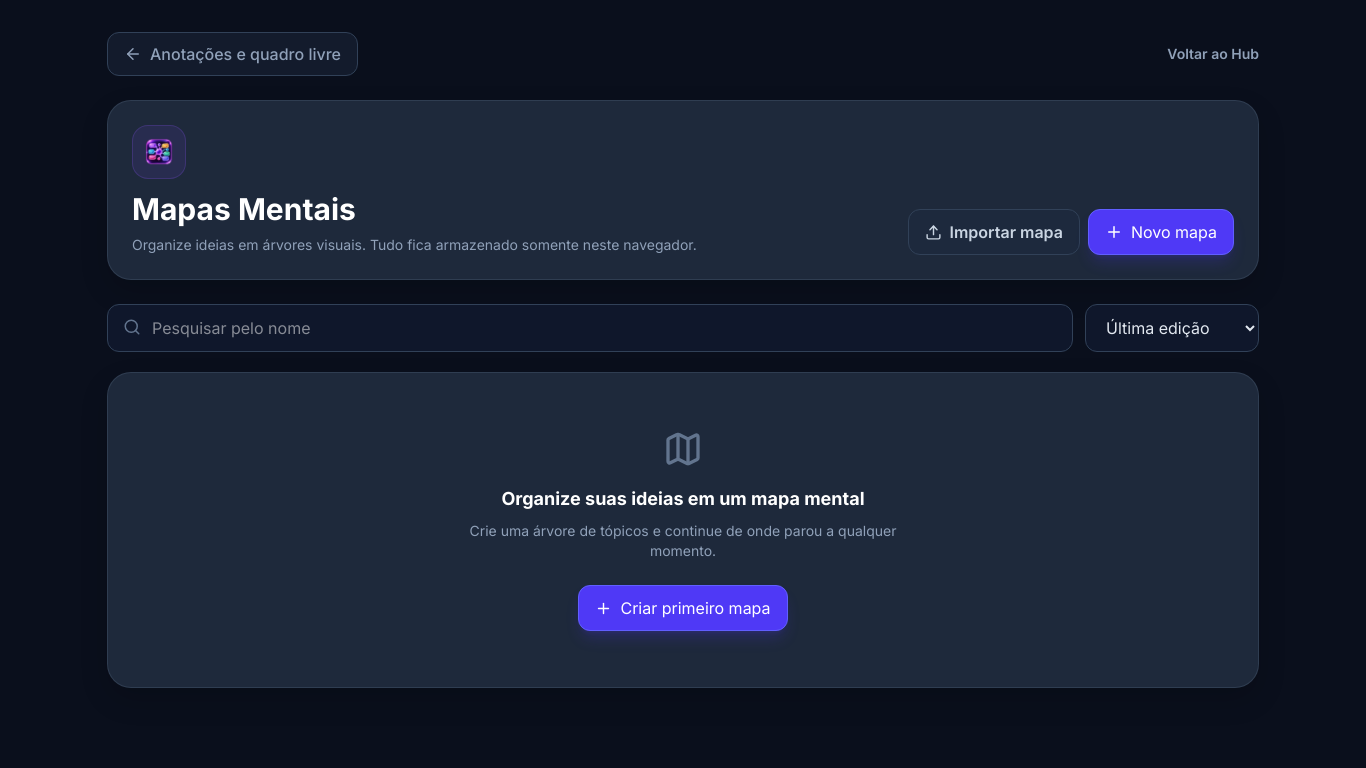
Test: Escape cancela a criação sem gravar um mapa
Step 1. Click the button "Novo mapa" → (1161, 232), box [1088, 209, 1234, 255]
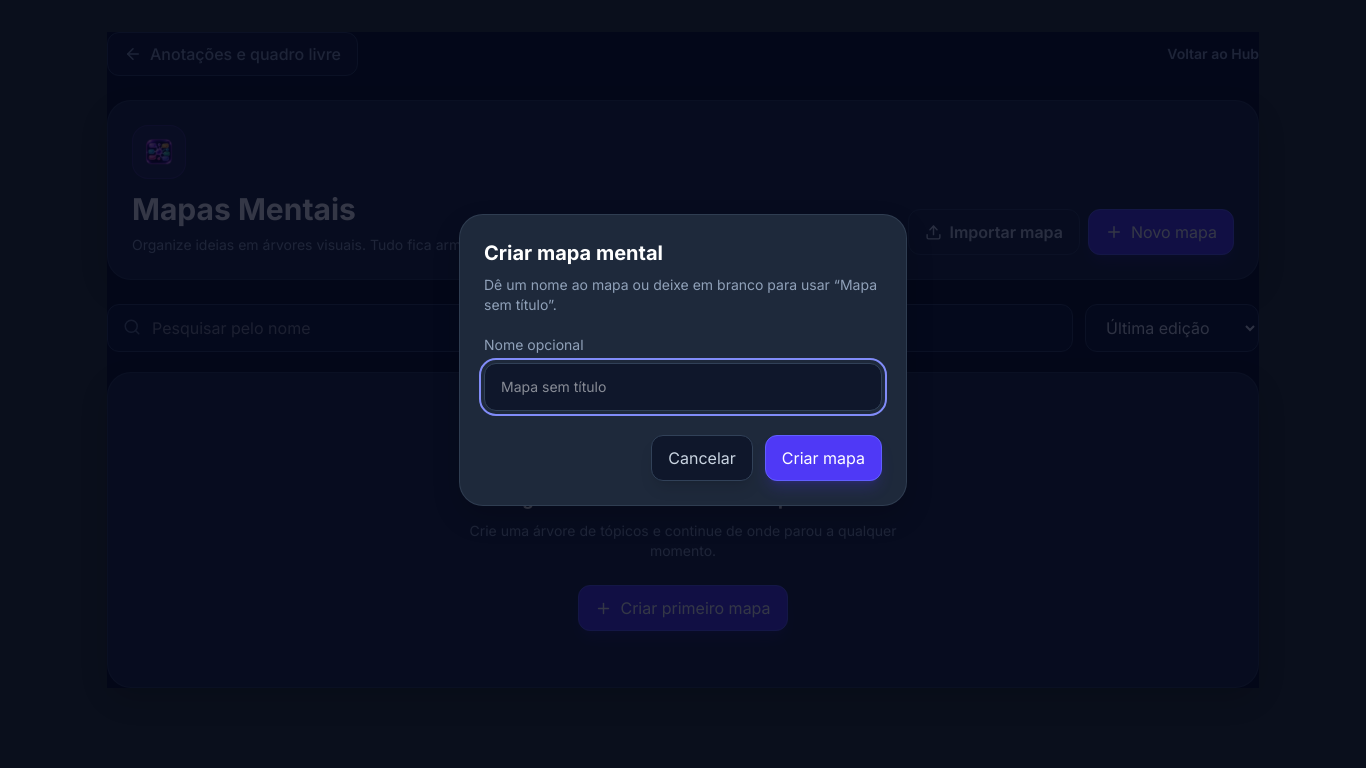
Step 2. Press Escape in the field named "Nome do novo mapa", box [484, 363, 882, 411]
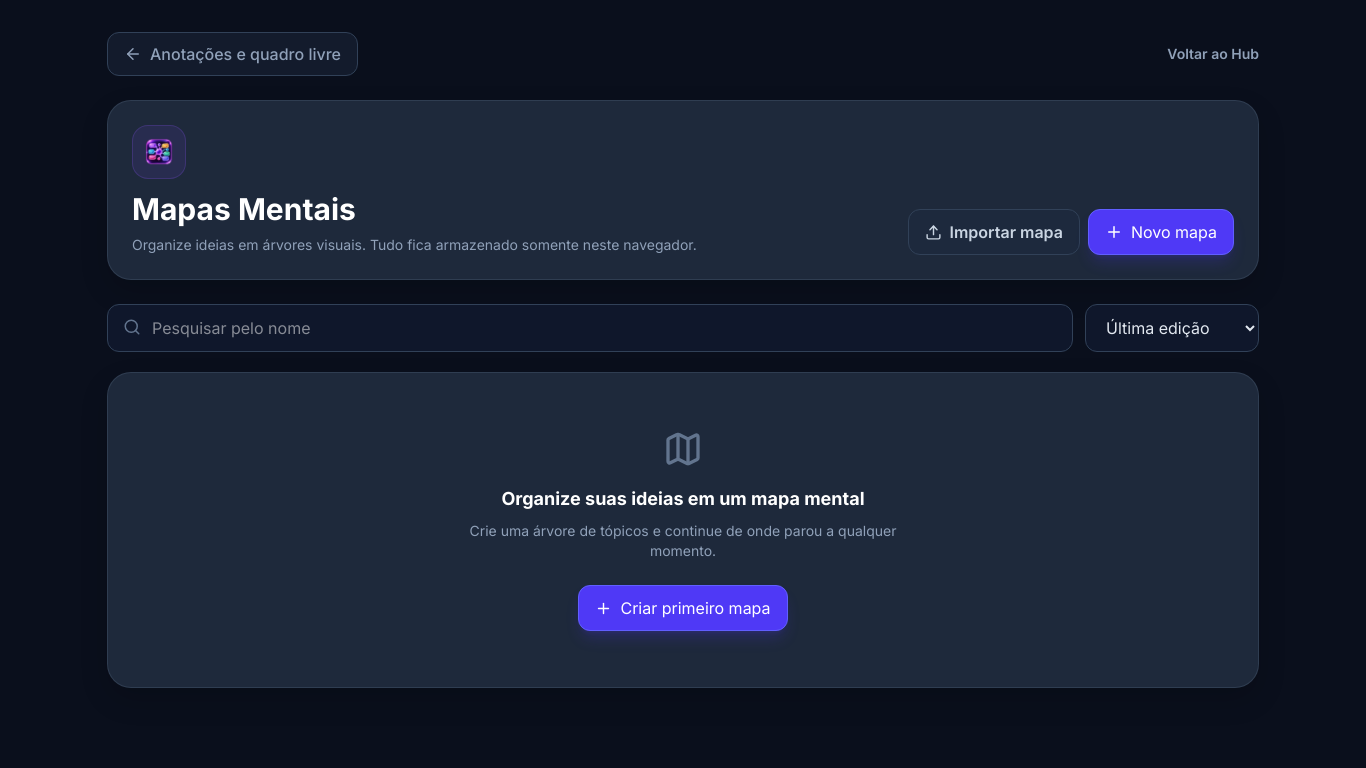
Expected: the heading "Criar mapa mental" is gone
